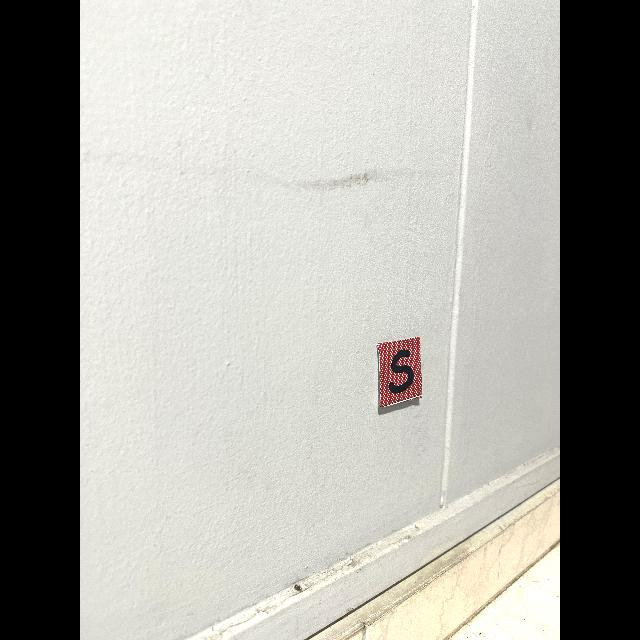S: (389, 350, 414, 393)
